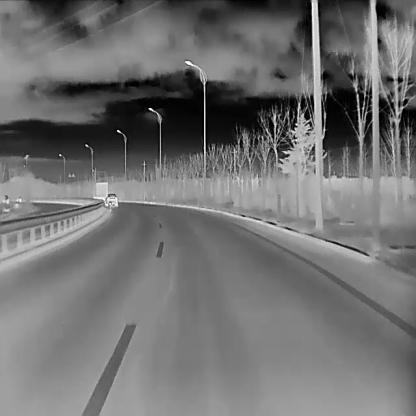car: (92, 181, 108, 199), (103, 193, 118, 207)
